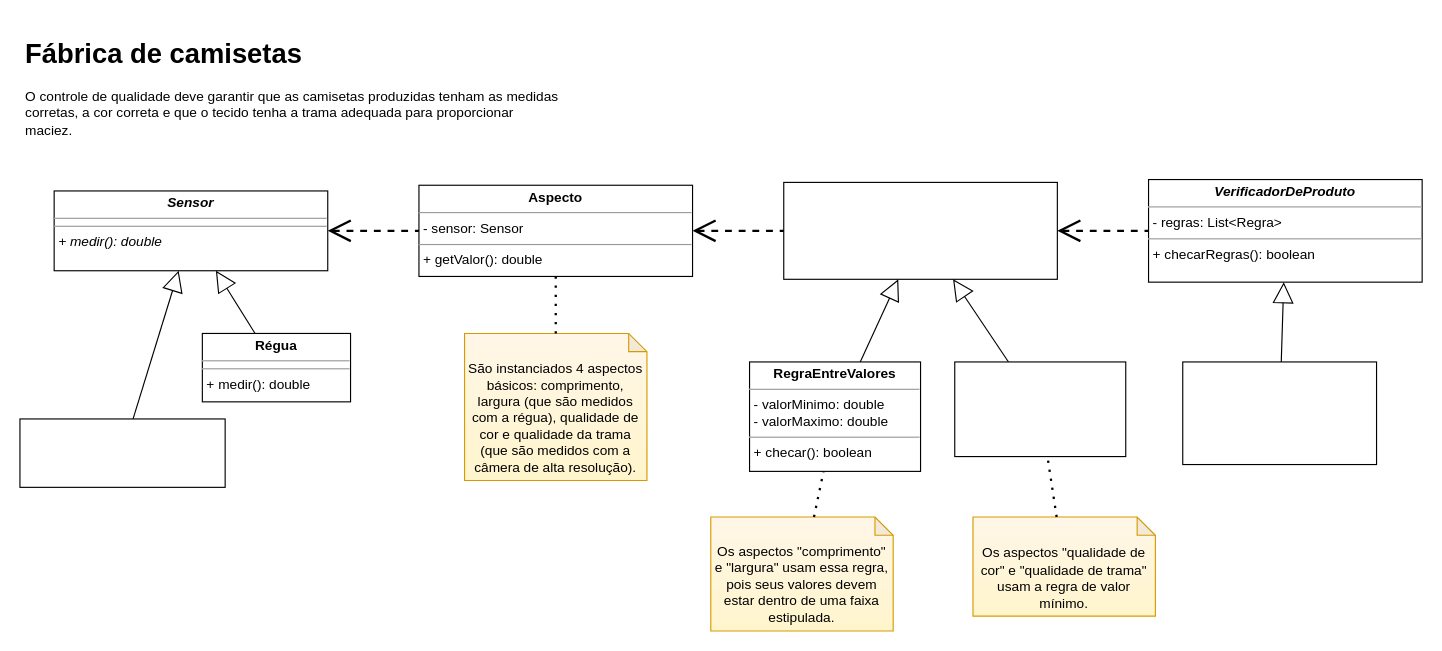
This 1442x651 diagram has some shape labels left out. Here are the shapes that lost their labels. From the top down, the box of each, then its label:
(783, 181, 1057, 279): Regra # aspecto: Aspecto + checar(): boolean
(954, 361, 1126, 457): RegraValorMinimo - valorMinimo: double + checar(): boolean
(1182, 361, 1377, 465): VerificadorDeCamisetas - regras: List<Regra> + checarRegras(): boolean
(19, 418, 225, 487): CameraAltaResolucao + medir(): double
